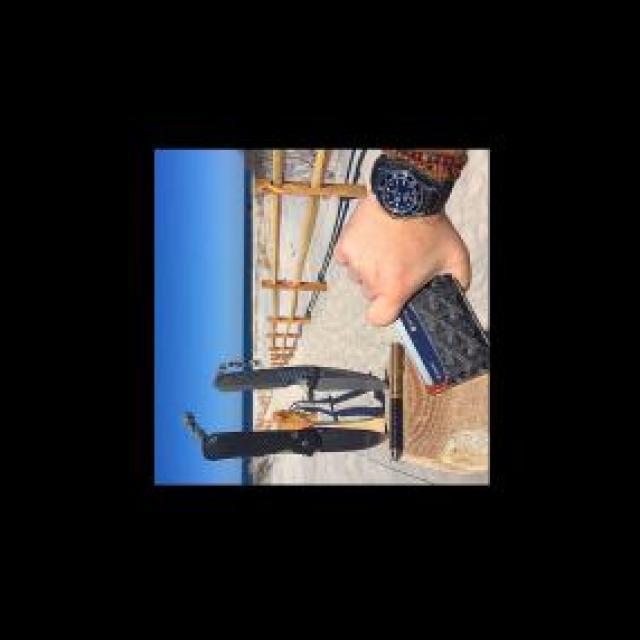knife: (201, 414, 393, 465), (206, 358, 394, 396)
